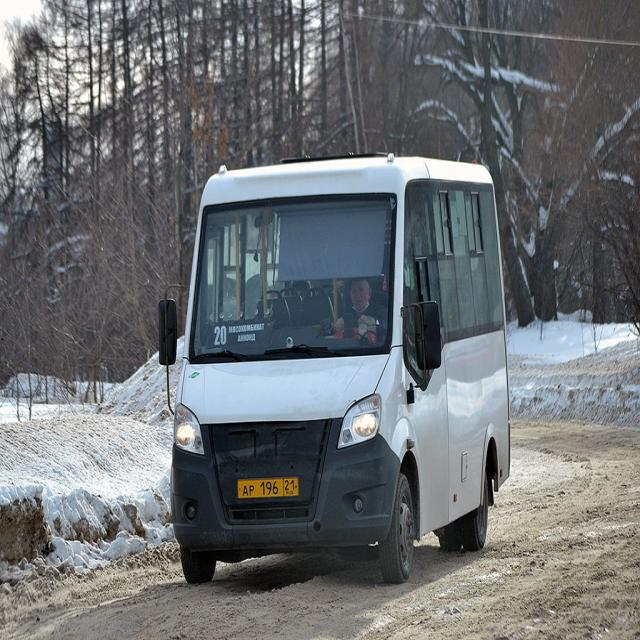number-of-bus: (214, 325, 229, 347)
